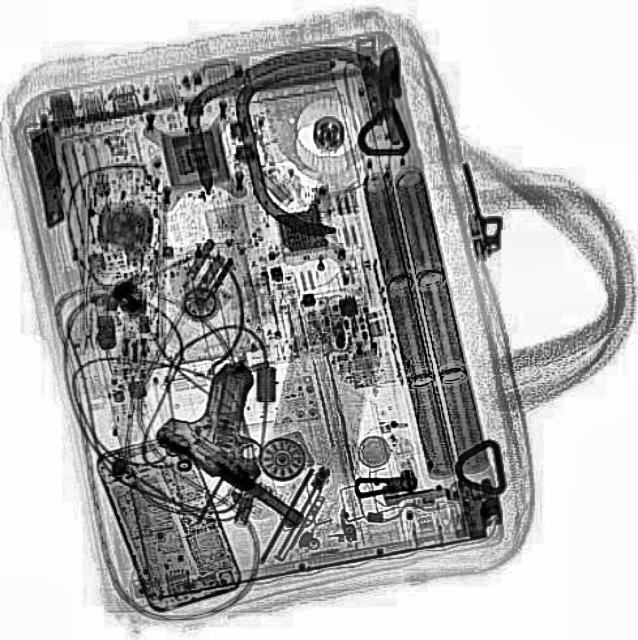Gun: (152, 352, 360, 530)
